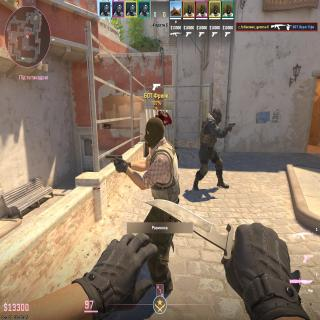CT-Body: (194, 106, 223, 189)
CT-Head: (212, 106, 222, 124)
